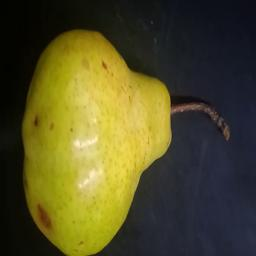Pear Semifresh: (20, 21, 241, 256)
